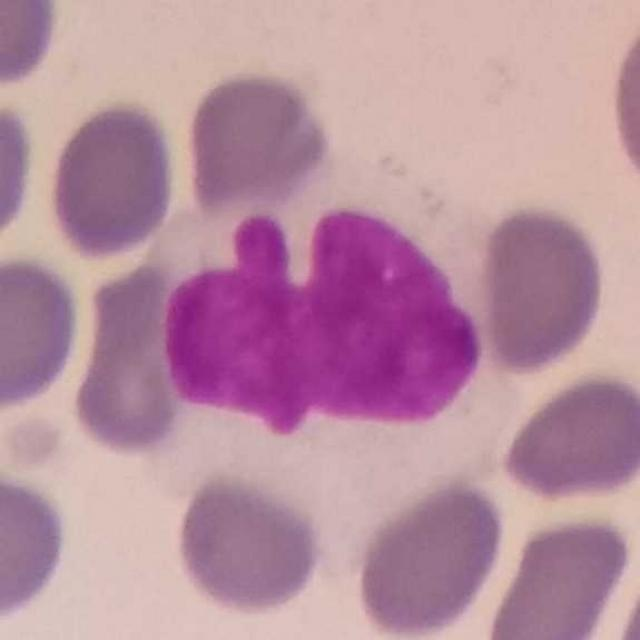mono: (133, 152, 526, 586)
